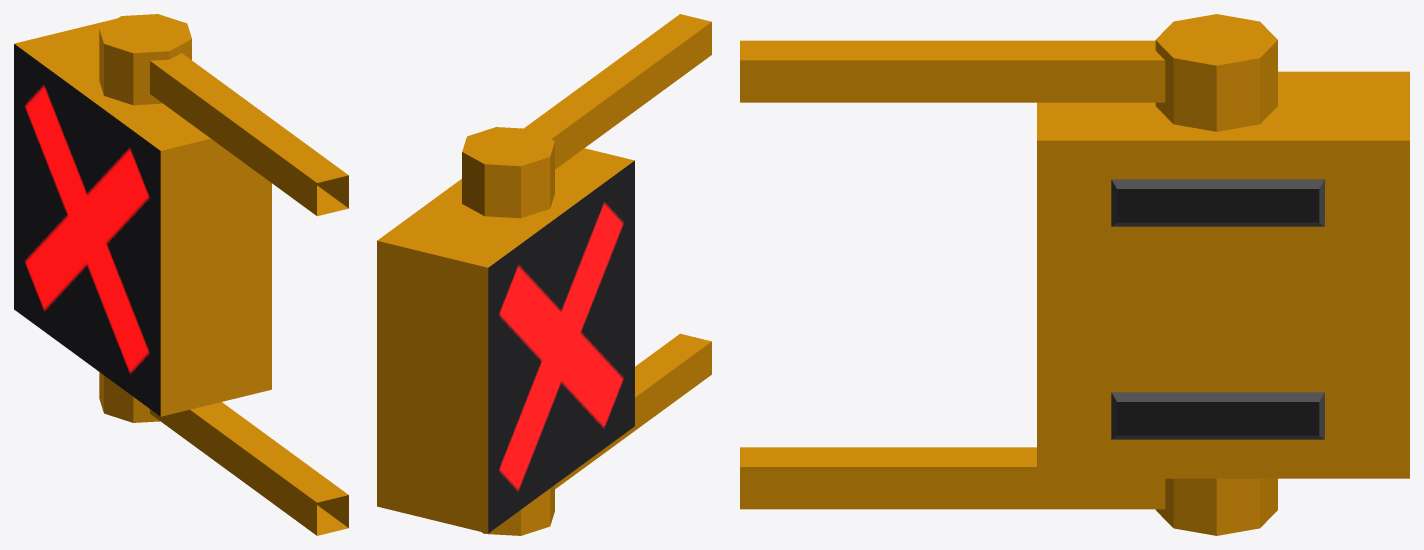
The model's file is SM_Traffic_Light_3C.fbx.
The picture shows the model from 3 angles, left to right: view 1: azimuth 30°, elevation 25°; view 2: azimuth 150°, elevation 25°; view 3: azimuth 270°, elevation 25°; orthographic projection. The views are drawn at different scales.
Visible parts, largest first — view 1: SM_Traffic_Light_3C_LOD0; view 2: SM_Traffic_Light_3C_LOD0; view 3: SM_Traffic_Light_3C_LOD0.
Boxes of the visible parts, left/top/right/bottom form: SM_Traffic_Light_3C_LOD0: left=14, top=14, right=348, bottom=535; SM_Traffic_Light_3C_LOD0: left=377, top=14, right=711, bottom=535; SM_Traffic_Light_3C_LOD0: left=740, top=14, right=1409, bottom=535.
Bounding box in the file's own units: 36.47 × 144 × 111.
Materials: 1 (1 with a texture image).
